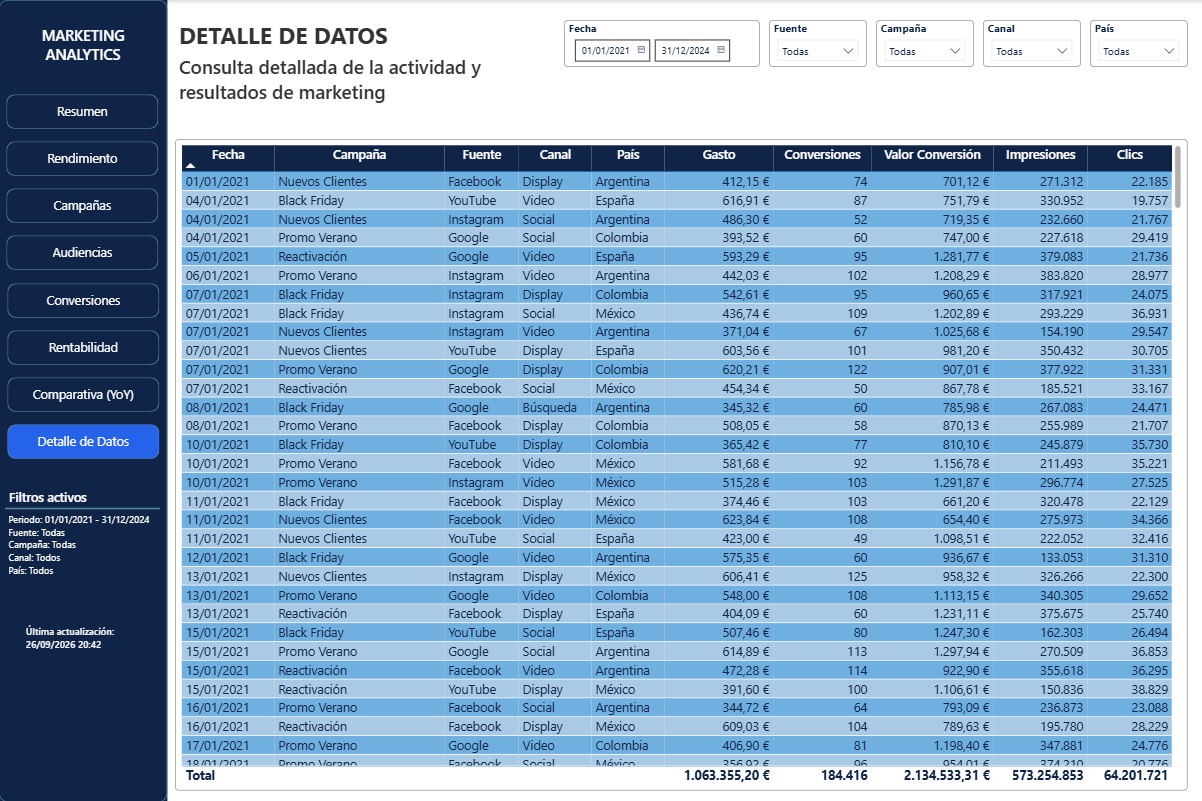

This screenshot's page, from the dashboard's own definition file:
{"tool":"powerbi","page":{"name":"Detalle de Datos","canvas":[1536,1024],"ordinal":7},"visuals":[{"type":"shape","box":[0,0,215,1024],"z":0,"group":"g1"},{"type":"group","id":"g1","title":"Grupo 3","box":[0,0,215,1024],"z":0,"group":"g2"},{"type":"group","id":"g2","title":"Grupo 4","box":[0,0,214.5,1024],"z":0},{"type":"textbox","title":"DETALLE DE DATOS","box":[224.7,24.3,486.5,109.8],"z":1000},{"type":"textbox","box":[1.3,26.8,212,68.9],"z":1000,"group":"g1"},{"type":"shape","box":[6.4,117.5,200,50],"z":1000,"group":"g2"},{"type":"slicer","title":"País","fields":{"Values":["DimPais.AudienciaPais"]},"box":[1393,25,125,60],"z":2000},{"type":"shape","box":[6.6,177.7,200,50],"z":2000,"group":"g2"},{"type":"slicer","title":"Fuente","fields":{"Values":["DimFuente.Fuente"]},"box":[983.2,25,125,60],"z":3000},{"type":"shape","box":[6.7,237.9,200,50],"z":3000,"group":"g2"},{"type":"slicer","title":"Canal","fields":{"Values":["DimCanal.CampaniaCanal"]},"box":[1256.4,25,125,60],"z":4000},{"type":"shape","box":[6.9,298,200,50],"z":4000,"group":"g2"},{"type":"slicer","title":"Fecha","fields":{"Values":["DimCalendar.Fecha"]},"box":[721.4,25,250.3,60],"z":5000},{"type":"shape","box":[7.1,358.2,200,50],"z":5000,"group":"g2"},{"type":"shape","box":[7.3,418.4,200,50],"z":6000,"group":"g2"},{"type":"slicer","title":"Campaña","fields":{"Values":["DimCampania.CampaniaNombre"]},"box":[1119.8,25,125,60],"z":7000},{"type":"shape","box":[7.5,478.6,200,50],"z":7000,"group":"g2"},{"type":"tableEx","fields":{"Values":["Hechos_Marketing.Fecha","Hechos_Marketing.CampaniaNombre","Hechos_Marketing.Fuente","Hechos_Marketing.CampaniaCanal","Hechos_Marketing.AudienciaPais","Sum(Hechos_Marketing.ImporteGastado)","Hechos_Marketing.Conversiones","Hechos_Marketing.ValorConversion","Sum(Hechos_Marketing.Impresiones)","Sum(Hechos_Marketing.Clics)"]},"box":[224.7,177.5,1293.4,832.5],"z":8000},{"type":"shape","box":[7.7,538.8,200,50],"z":8000,"group":"g2"},{"type":"cardVisual","fields":{"Data":["Medidas.Última Actualización"]},"box":[20.4,766.1,169.8,93.2],"z":8001},{"type":"cardVisual","fields":{"Data":["_Medidas.Filtros Activos - Resumen"]},"box":[0,619.3,213.2,150.7],"z":8002},{"type":"shape","box":[7.7,635.9,197.9,26.8],"z":8003},{"type":"textbox","box":[7.7,619.3,199.2,33.2],"z":9000}]}

Visuals, with their boxes on the page's 1536x1024 design canvas (x1, y1, x2, y2). These are canvas units, not pixel positions in the 1202x801 screenshot, which may show the page scaled, cropped or inside an application window:
shape: select_region(0, 0, 215, 1024)
"Grupo 3" group: select_region(0, 0, 215, 1024)
"Grupo 4" group: select_region(0, 0, 214, 1024)
"DETALLE DE DATOS" textbox: select_region(225, 24, 711, 134)
textbox: select_region(1, 27, 213, 96)
shape: select_region(6, 118, 206, 168)
"País" slicer: select_region(1393, 25, 1518, 85)
shape: select_region(7, 178, 207, 228)
"Fuente" slicer: select_region(983, 25, 1108, 85)
shape: select_region(7, 238, 207, 288)
"Canal" slicer: select_region(1256, 25, 1381, 85)
shape: select_region(7, 298, 207, 348)
"Fecha" slicer: select_region(721, 25, 972, 85)
shape: select_region(7, 358, 207, 408)
shape: select_region(7, 418, 207, 468)
"Campaña" slicer: select_region(1120, 25, 1245, 85)
shape: select_region(8, 479, 208, 529)
tableEx - Hechos_Marketing.Fecha x Hechos_Marketing.CampaniaNombre: select_region(225, 178, 1518, 1010)
shape: select_region(8, 539, 208, 589)
cardVisual - Medidas.Última Actualización: select_region(20, 766, 190, 859)
cardVisual - _Medidas.Filtros Activos - Resumen: select_region(0, 619, 213, 770)
shape: select_region(8, 636, 206, 663)
textbox: select_region(8, 619, 207, 652)
